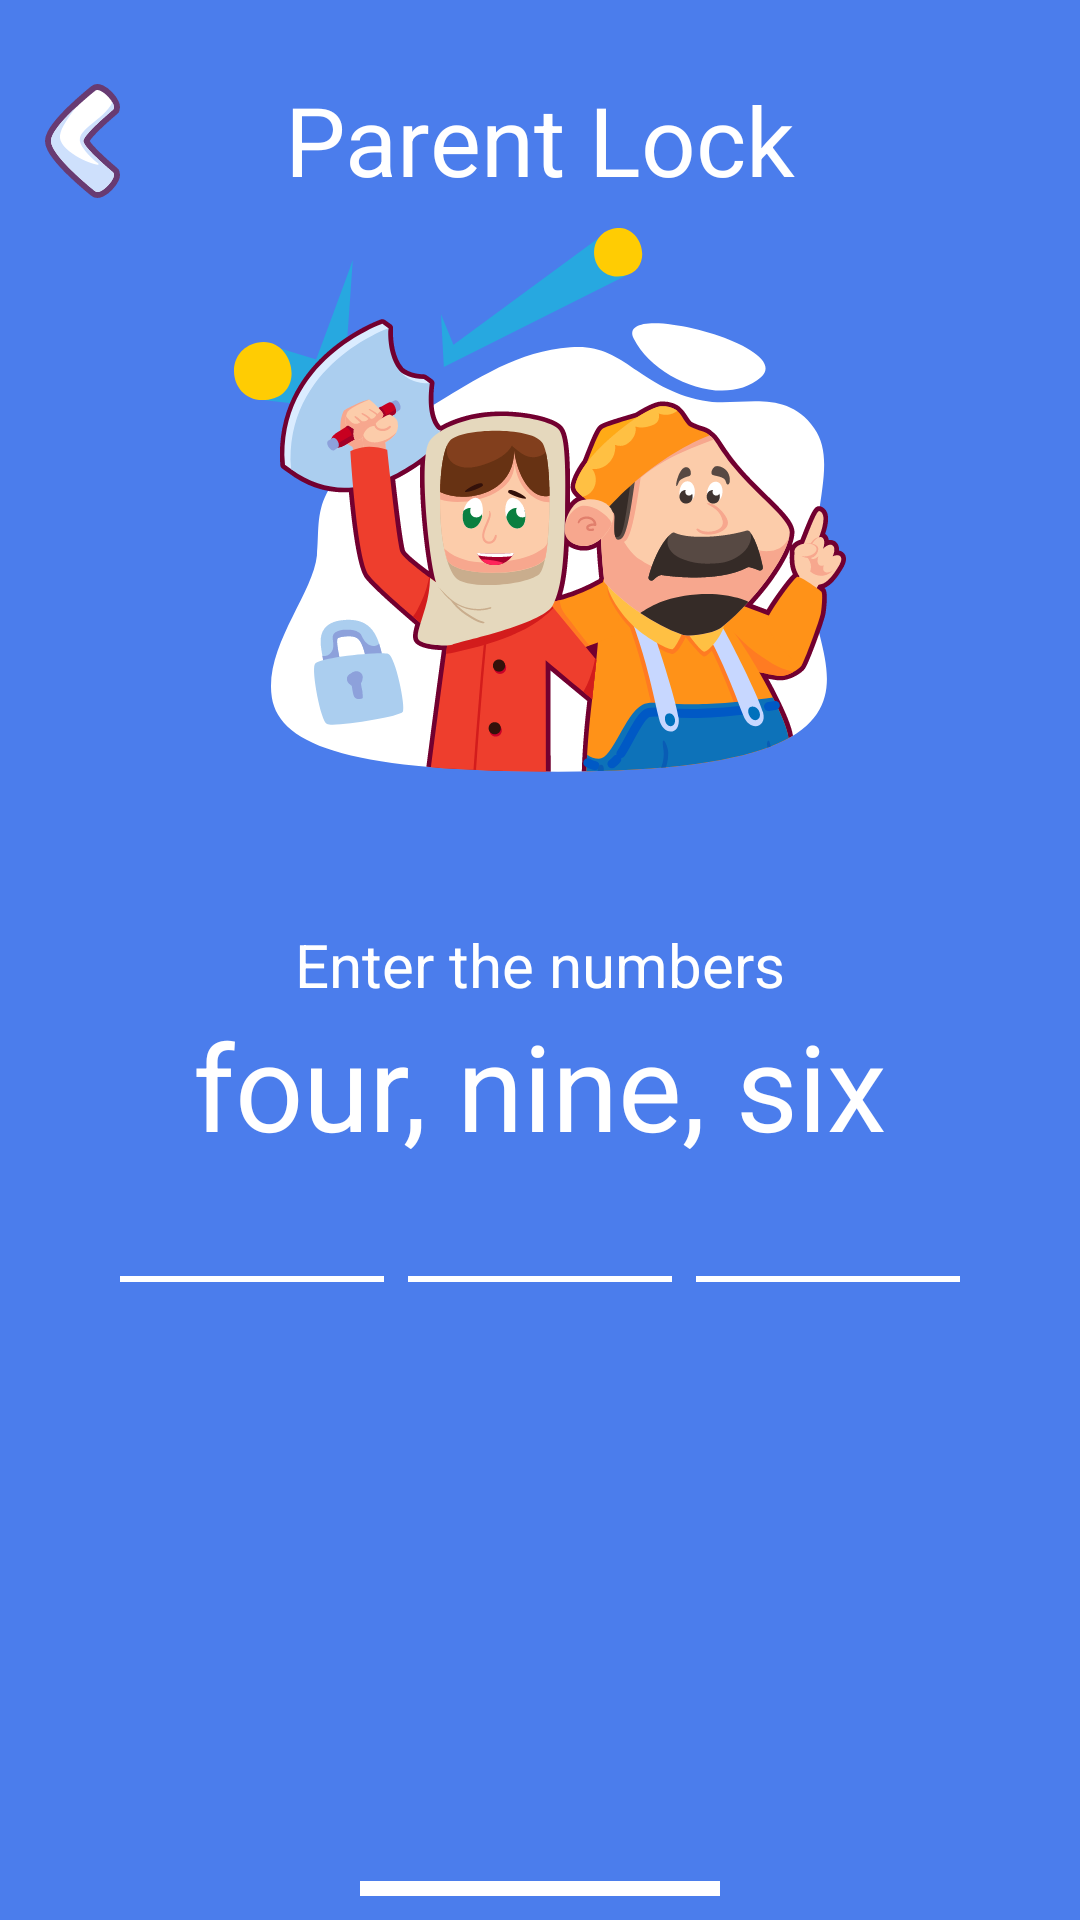

Screen size 1080×1920. Icon name, then its center in pixels as point (x, y):
back: point (82, 141)
